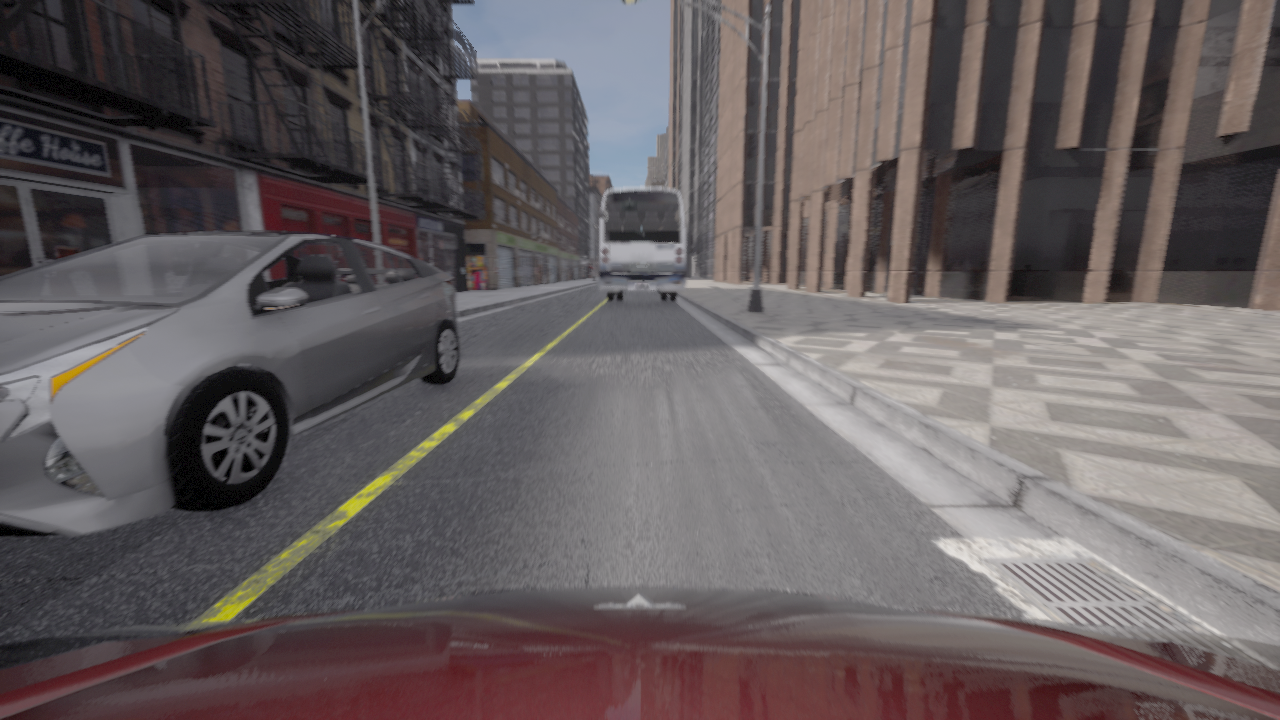cyclist: (0, 588, 1279, 719), (0, 231, 461, 536), (598, 187, 686, 301)
